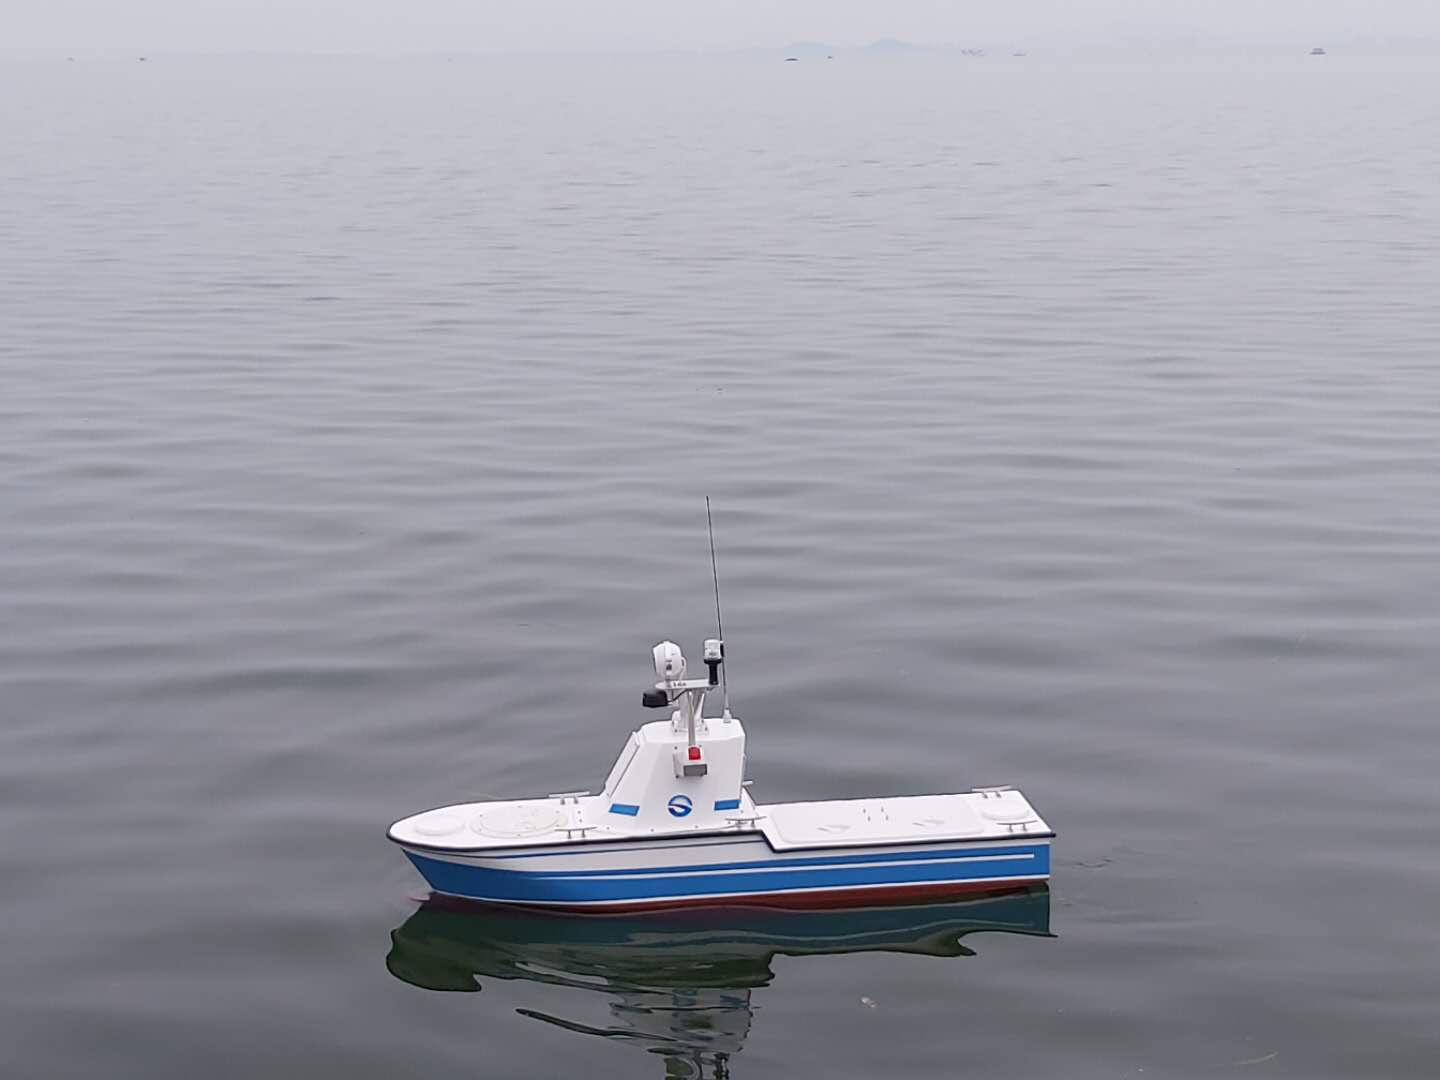boat: (380, 640, 1064, 934)
